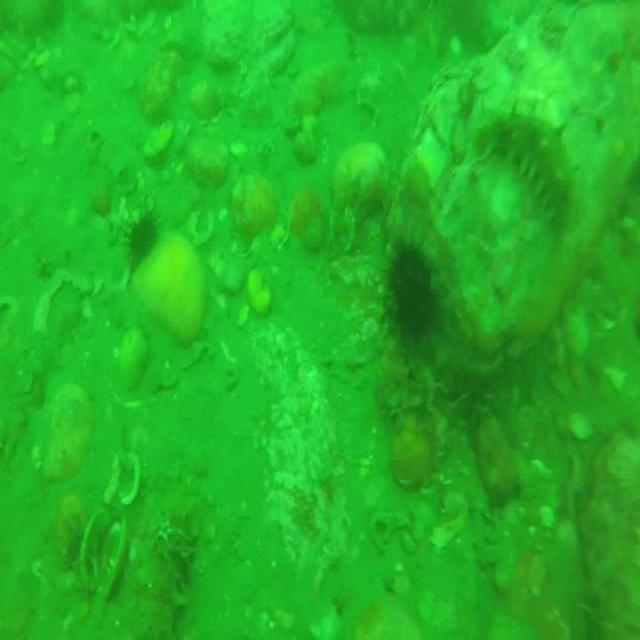echinus: (380, 240, 436, 349), (120, 204, 161, 257)
holothurian: (478, 108, 576, 238), (132, 509, 196, 640)
scallop: (135, 210, 202, 337), (75, 508, 129, 608), (110, 452, 142, 512), (121, 327, 148, 394)
